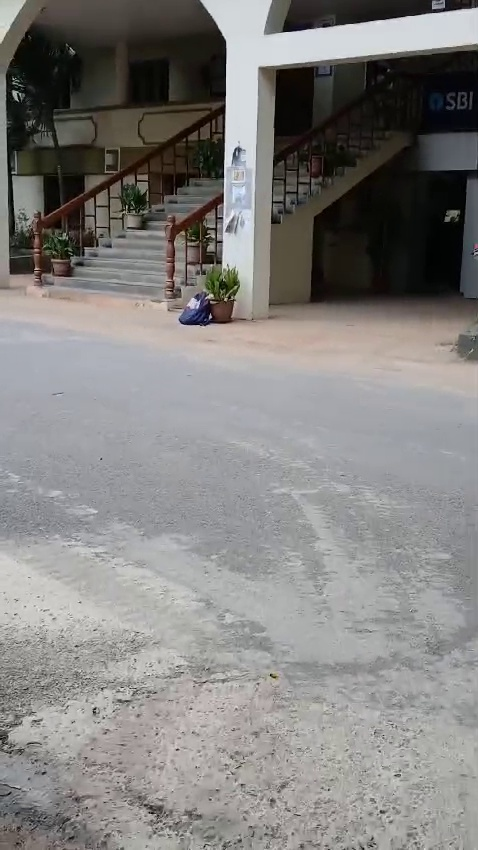bag: (179, 282, 204, 345)
